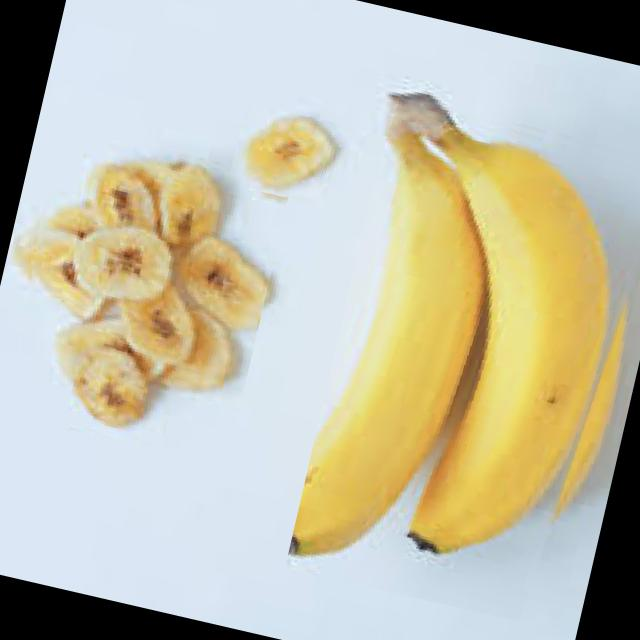Organic: (284, 90, 640, 632), (0, 119, 293, 459), (240, 97, 336, 205)
